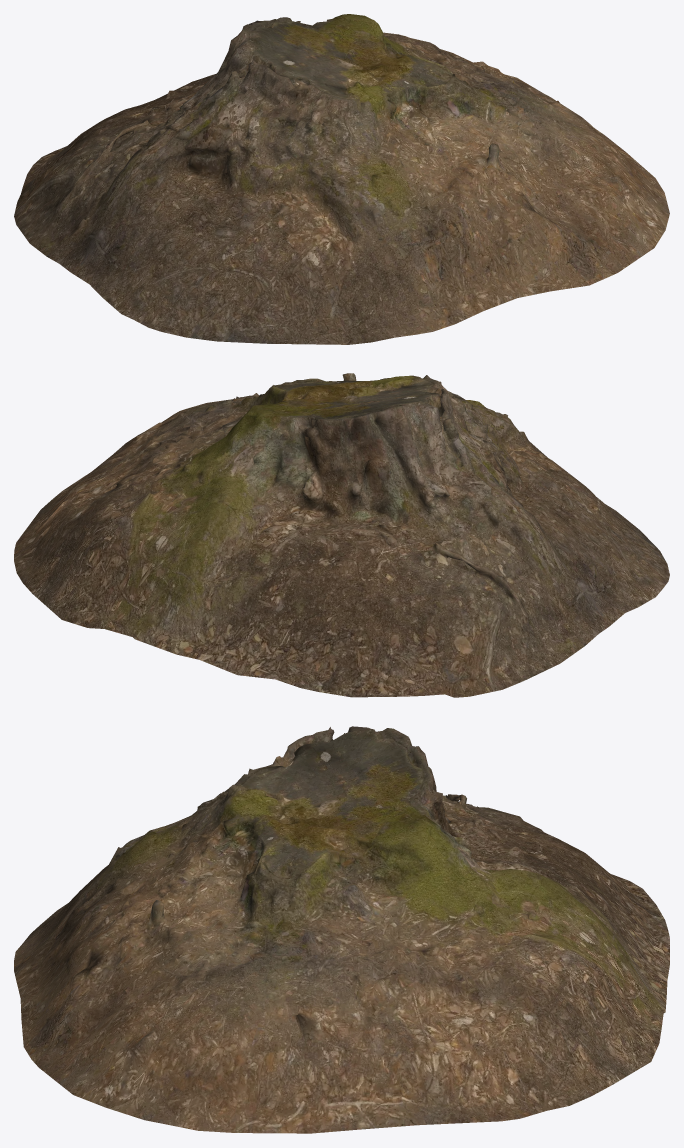
The model's file is tree_stump_02.glb.
3 renders of one model, top to bottom at view 1: azimuth 30°, elevation 25°; view 2: azimuth 150°, elevation 25°; view 3: azimuth 270°, elevation 25°, orthographic. The views are drawn at different scales.
Parts seen in each view (by area): view 1: tree_stump_02; view 2: tree_stump_02; view 3: tree_stump_02.
Boxes of the visible parts, left/top/right/bottom form: tree_stump_02: left=14, top=14, right=669, bottom=344; tree_stump_02: left=14, top=373, right=669, bottom=697; tree_stump_02: left=14, top=726, right=669, bottom=1133.
Size of the model in its own units: 1.52 by 0.5214 by 1.39.
1 material, 1 textured.
